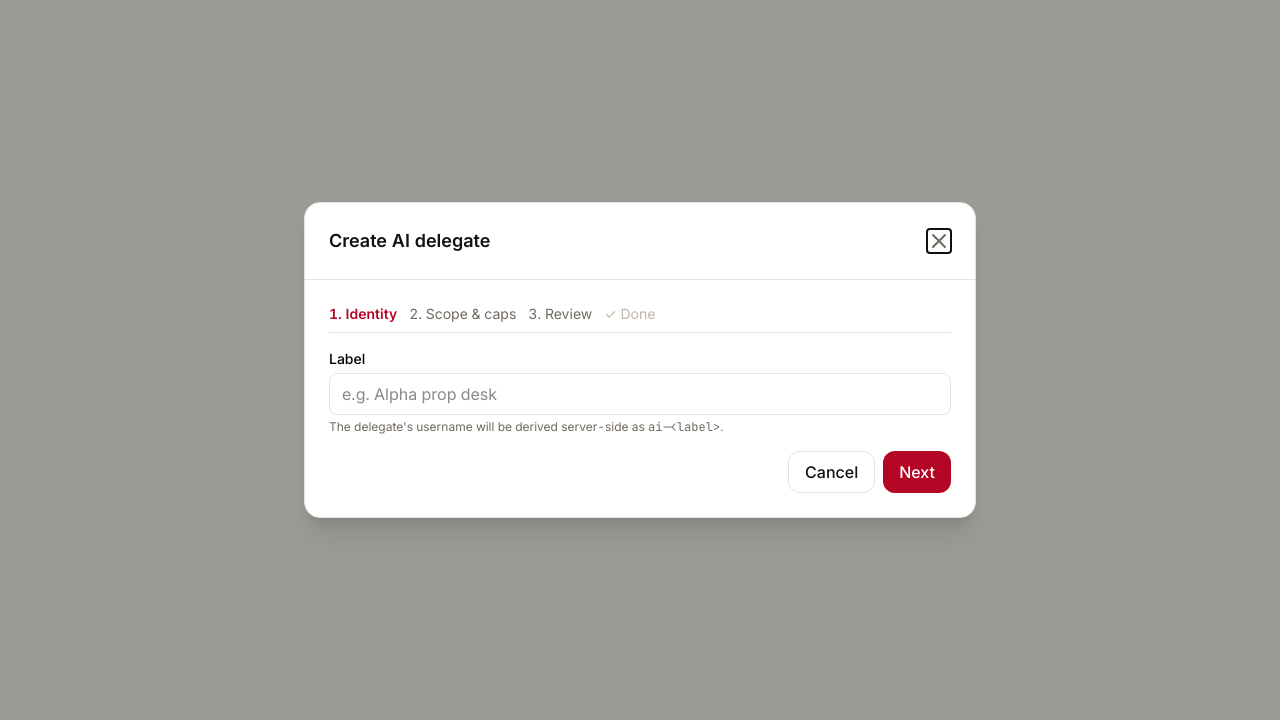
CreateDelegateWizard › shows caps error for negative integer in number field
Type "alpha" into the field labelled "Label". click: (640, 394)
box: [329,373,951,415]
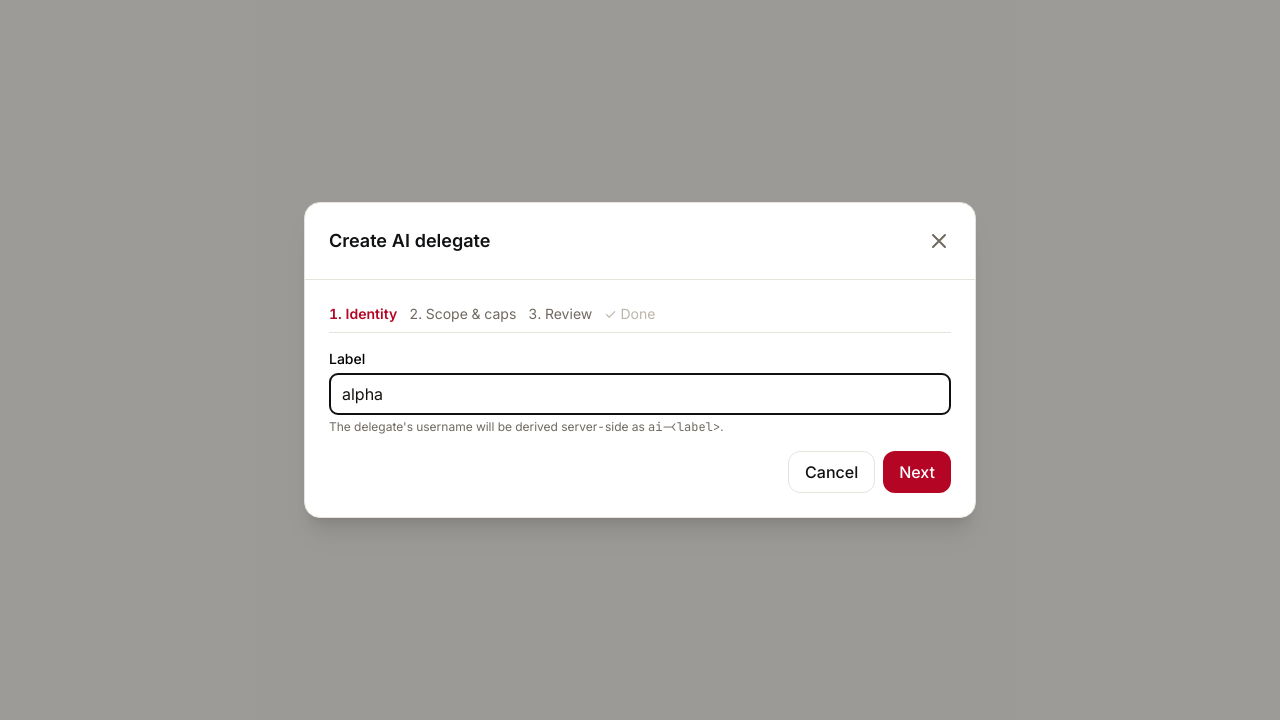
Click the button "Next". click: (917, 472)
box: [883,451,951,493]
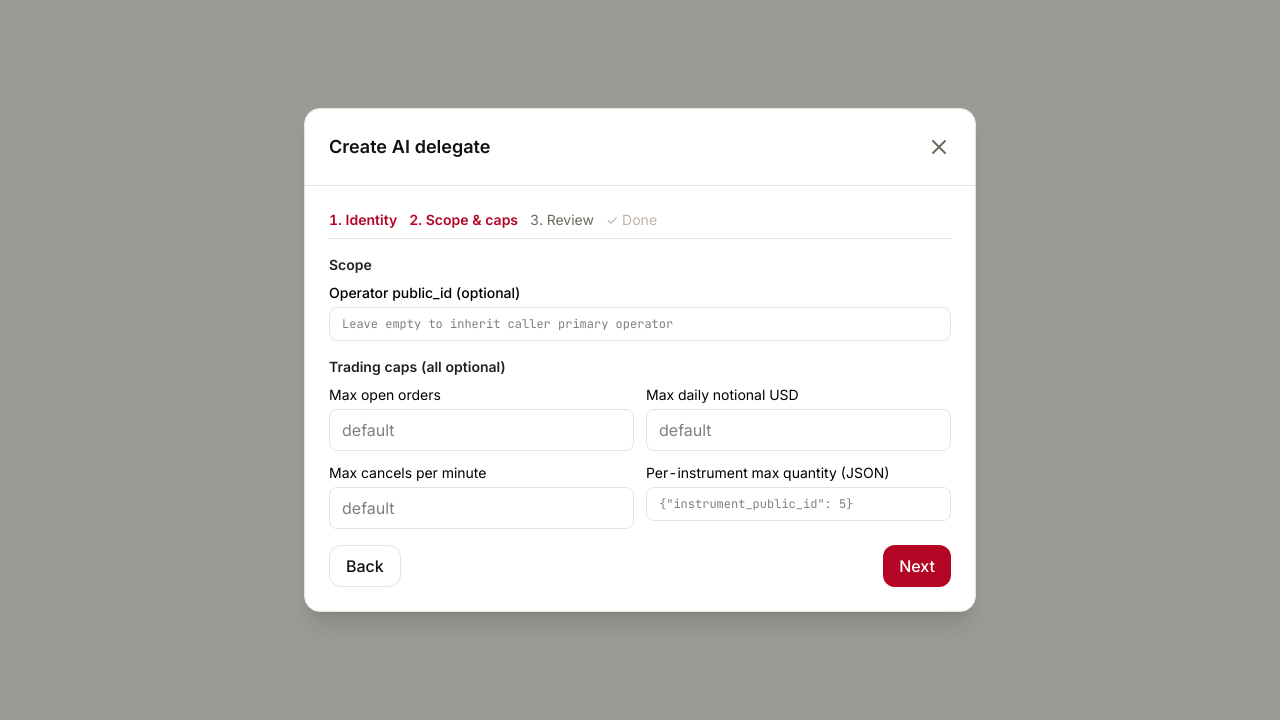
Type "-3" into the number field labelled "Max open orders". click: (482, 430)
box: [329,409,634,451]
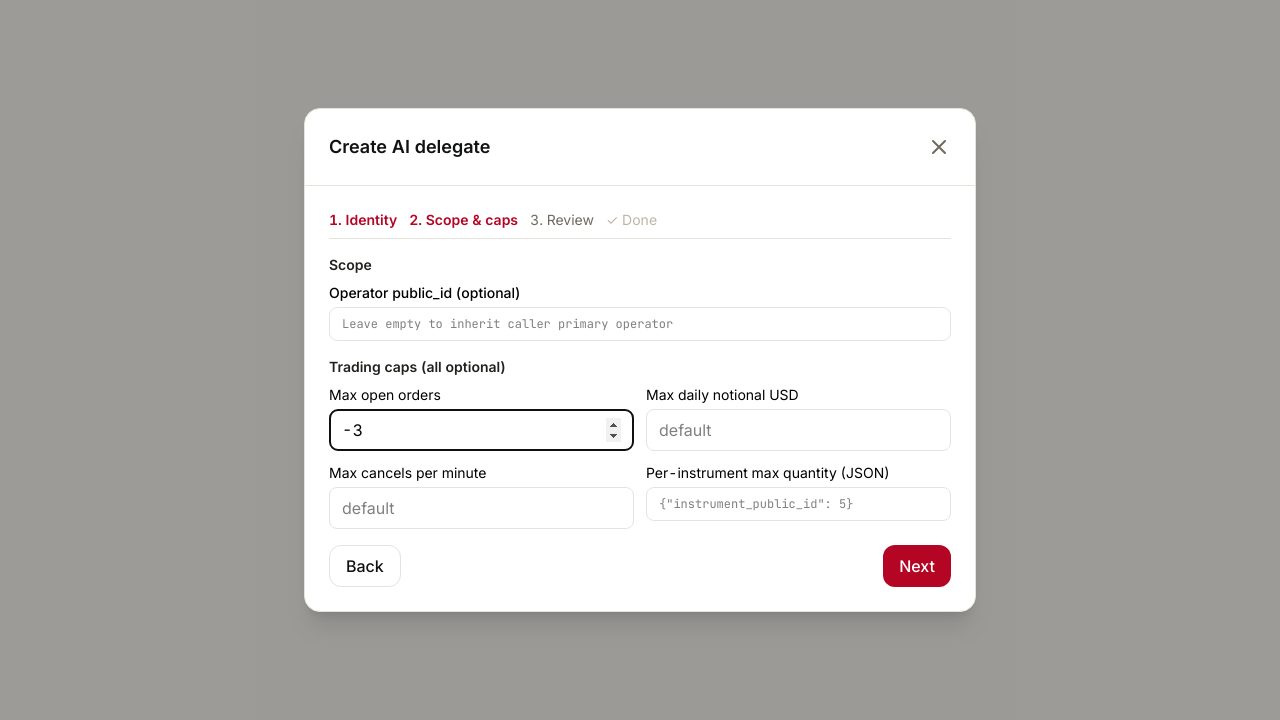
Click the button "Next". click: (917, 566)
box: [883,545,951,587]
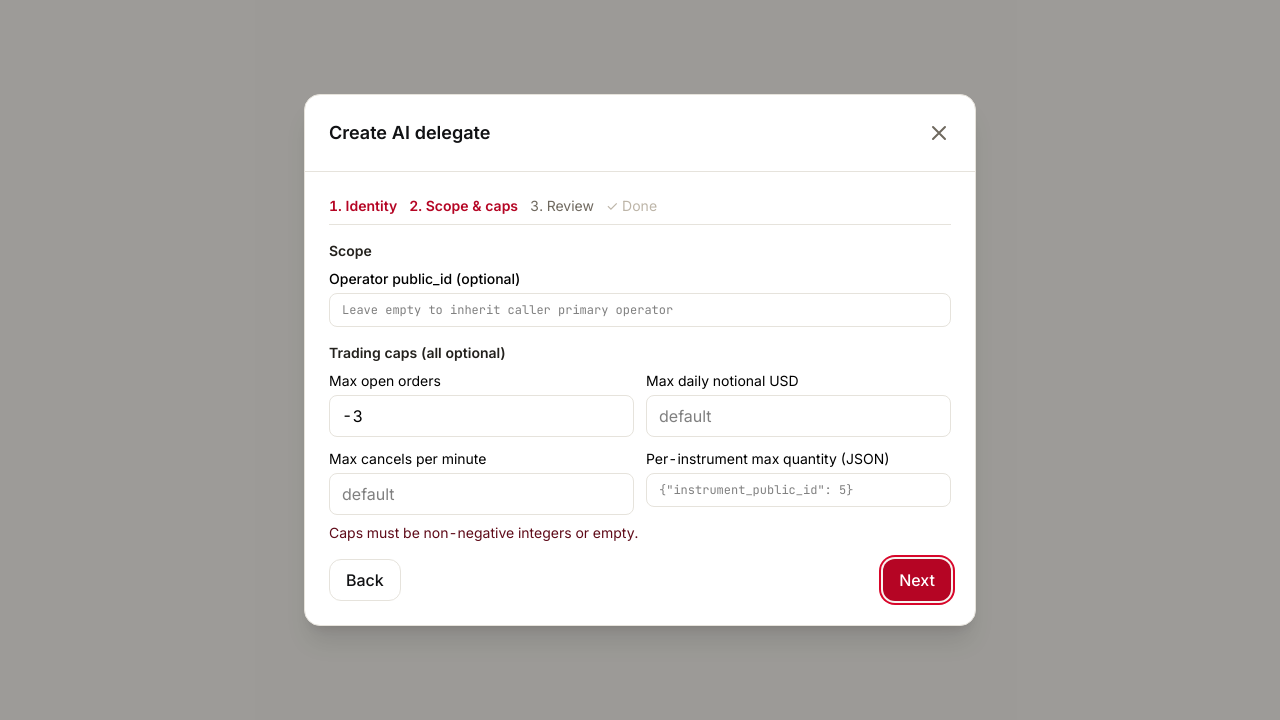
expect the message shows "non-negative integers": met, box [329,524,638,541]
